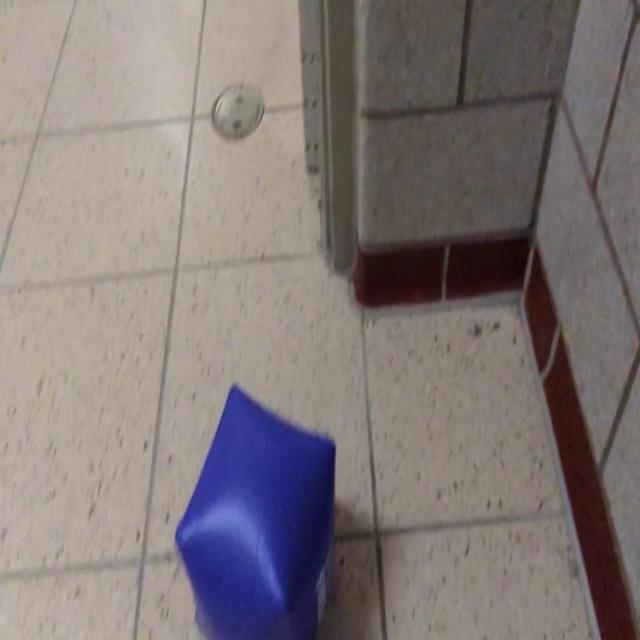frc_cube: (177, 386, 337, 640)
